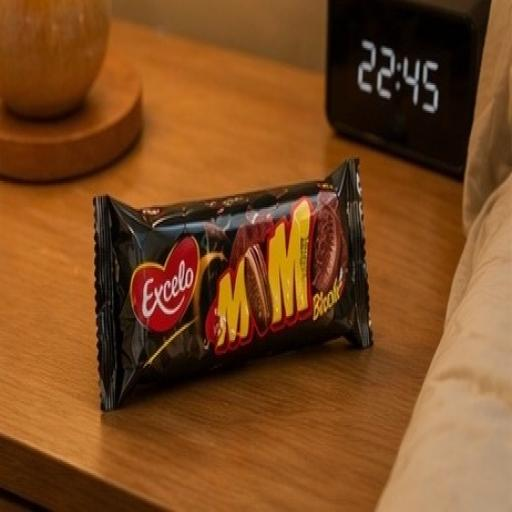MOMO: (68, 132, 415, 420)
